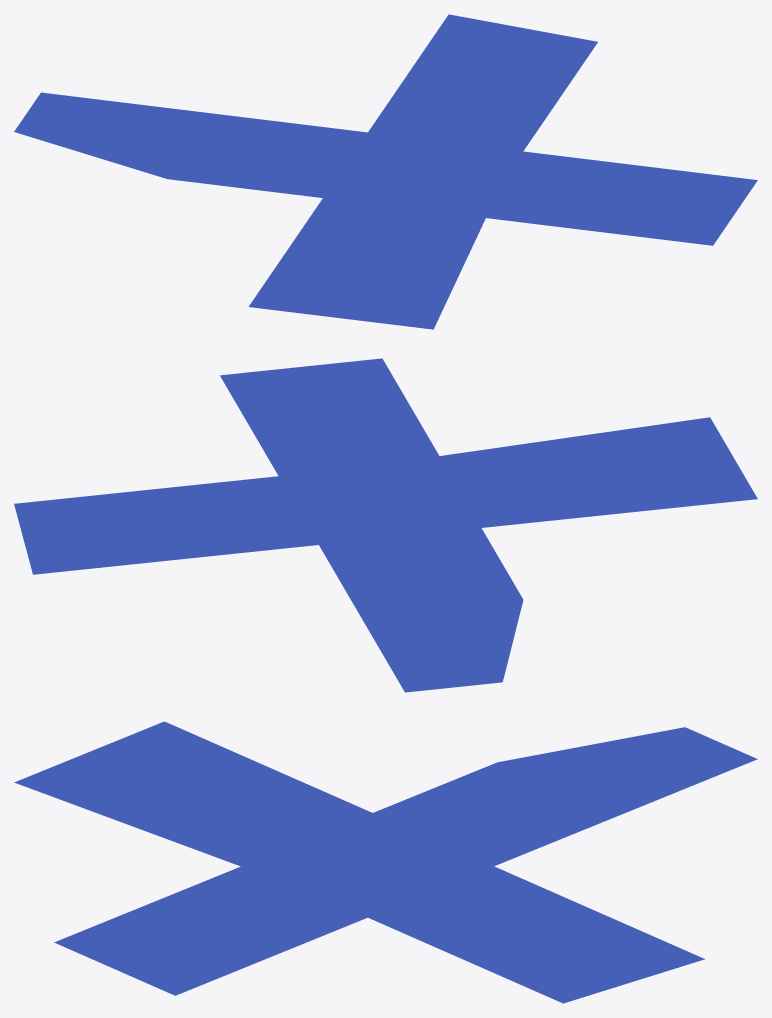
The model's file is cross.fbx.
3 views of the same model, one above another, from view 1: azimuth 30°, elevation 25°; view 2: azimuth 150°, elevation 25°; view 3: azimuth 270°, elevation 25° (orthographic). The views are drawn at different scales.
Parts seen in each view (by area): view 1: cross; view 2: cross; view 3: cross.
Part boxes in pixels (x1,y1,x2,y2): cross: (14,14,757,329); cross: (14,358,757,692); cross: (14,721,757,1003).
Bounding box in the file's own units: 5.24 × 5.84 × 0.0223.
